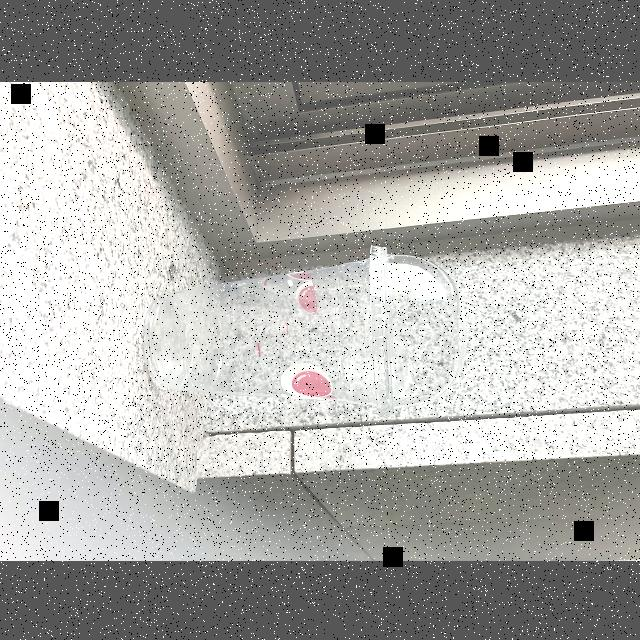plastic_cup: (137, 243, 466, 424)
plastic_cup_lid: (369, 232, 461, 418)
